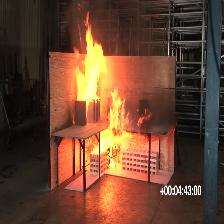fire: (76, 26, 103, 99), (106, 93, 126, 172), (98, 134, 106, 154)
